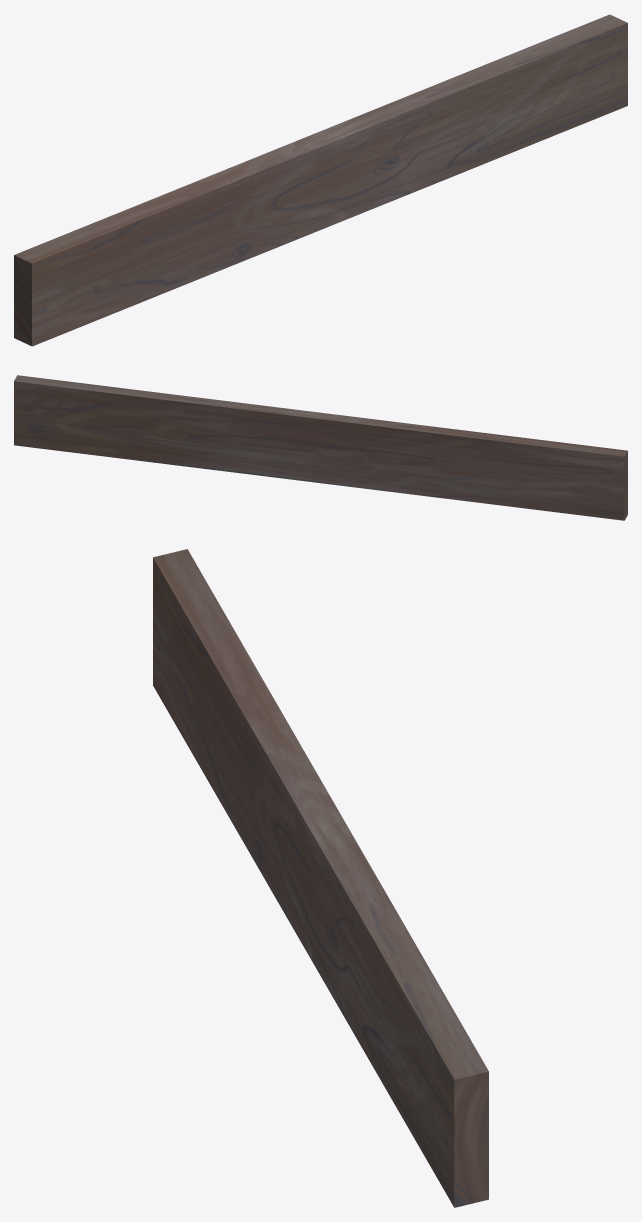
File: long_board_024.fbx
3 renders of one model, top to bottom at view 1: azimuth 30°, elevation 25°; view 2: azimuth 150°, elevation 25°; view 3: azimuth 270°, elevation 25°, orthographic. The views are drawn at different scales.
Parts seen in each view (by area): view 1: long board.024; view 2: long board.024; view 3: long board.024.
Boxes of the visible parts, left/top/right/bottom form: long board.024: left=14, top=14, right=627, bottom=346; long board.024: left=14, top=375, right=627, bottom=520; long board.024: left=153, top=549, right=488, bottom=1207.
Bounding box in the file's own units: 89.72 × 10.41 × 24.15.
